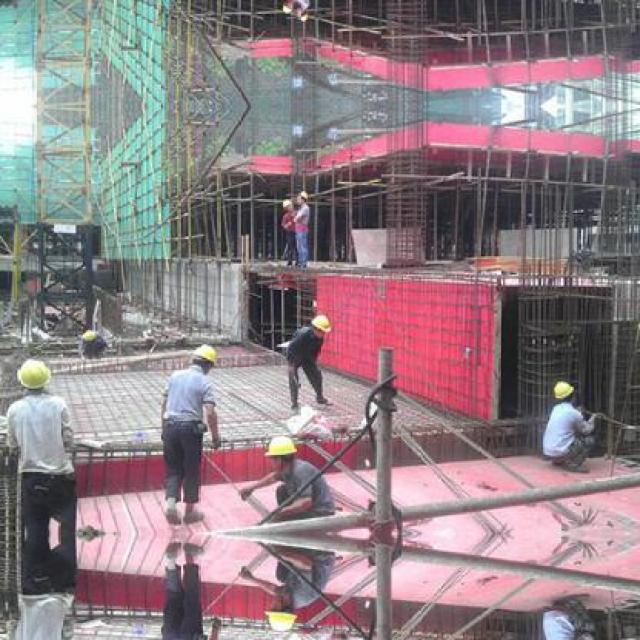helmet: (11, 354, 51, 397), (263, 431, 300, 468), (263, 597, 300, 634), (191, 338, 218, 372), (551, 375, 575, 404), (309, 312, 331, 338), (294, 186, 308, 206), (294, 6, 308, 26), (84, 326, 98, 342), (281, 196, 294, 210), (281, 2, 294, 16)
